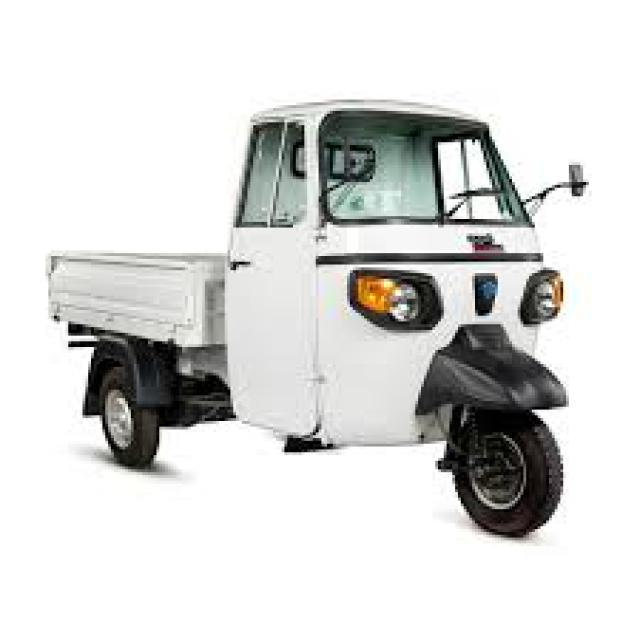tuktuk: (20, 38, 621, 594)
